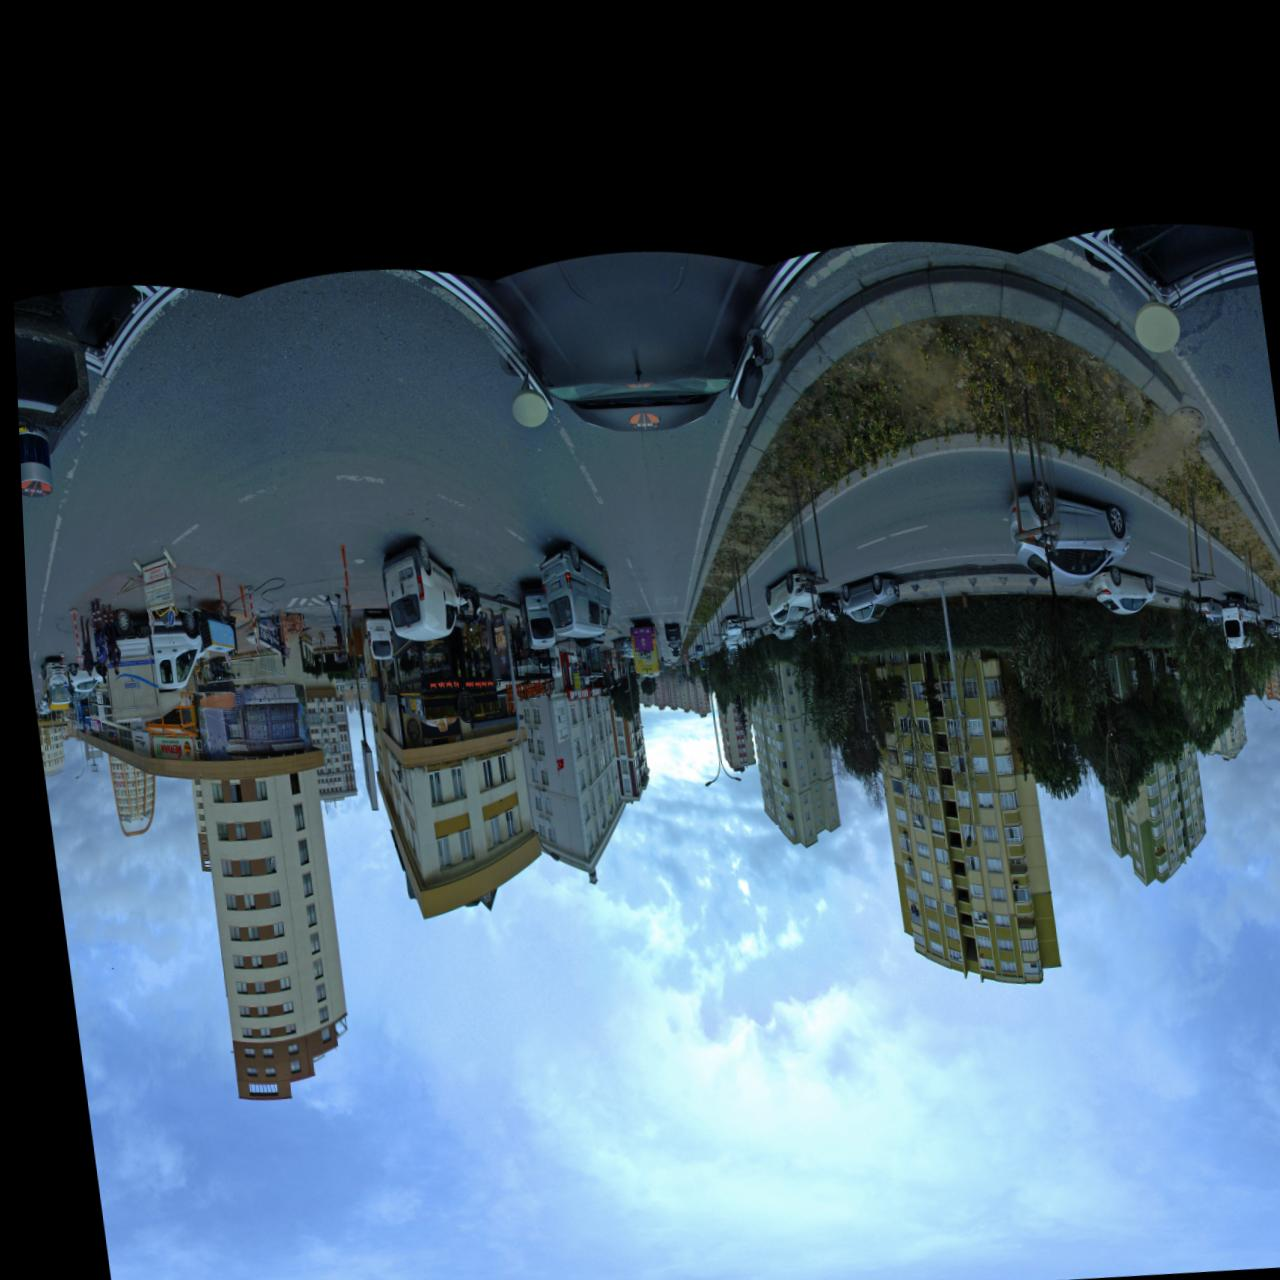SignStore: (143, 730, 188, 755), (508, 674, 542, 697), (392, 689, 416, 714), (123, 730, 143, 753), (560, 683, 581, 697), (497, 679, 505, 695), (82, 717, 93, 729), (583, 683, 594, 693)
